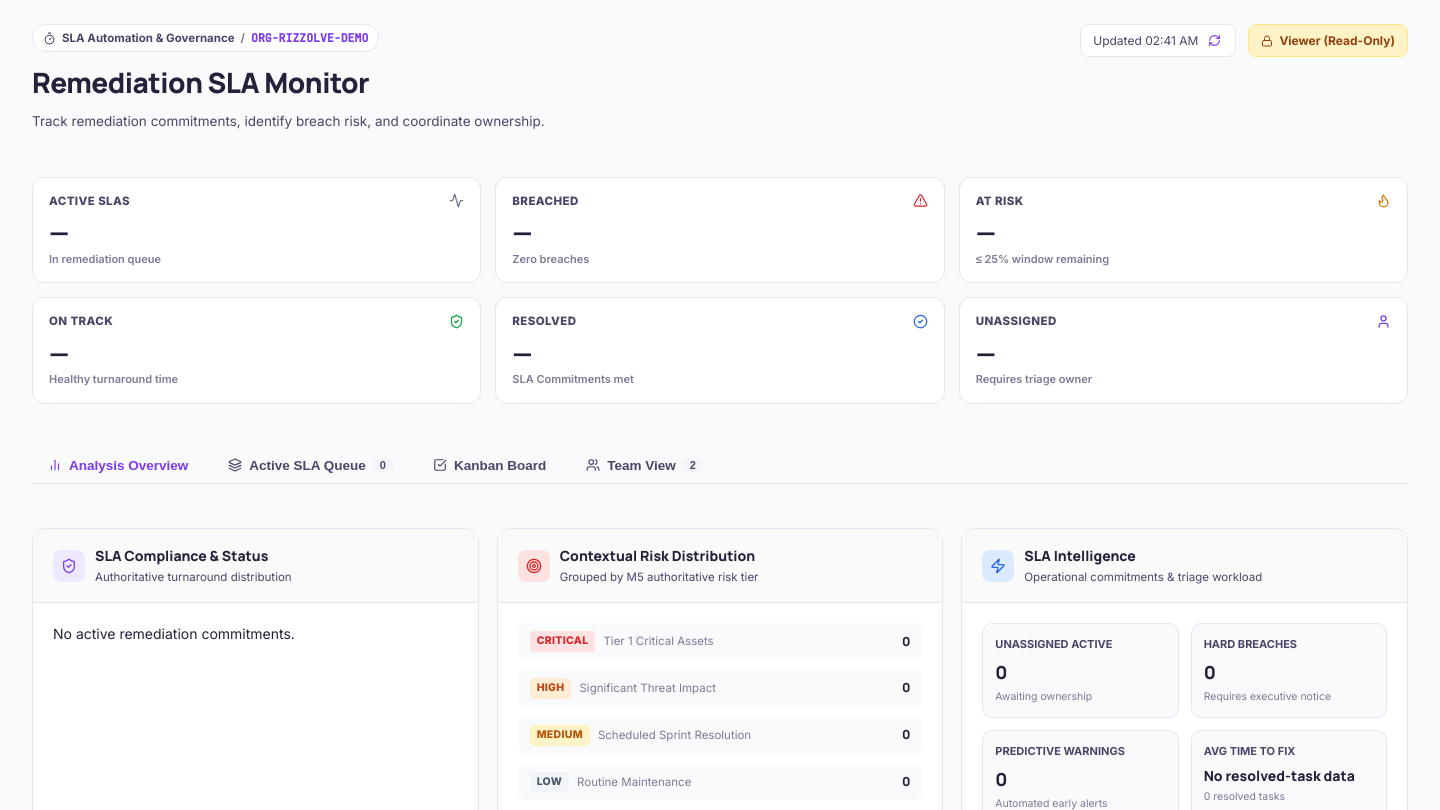
Test: Remediation SLA Monitor Component › 8. switches to Kanban Board and renders 4 workflow columns
expect the text "Kanban Board" is shown: met, box [454, 458, 546, 473]
Click the tab "Kanban Board": (490, 466) [417, 448, 562, 485]
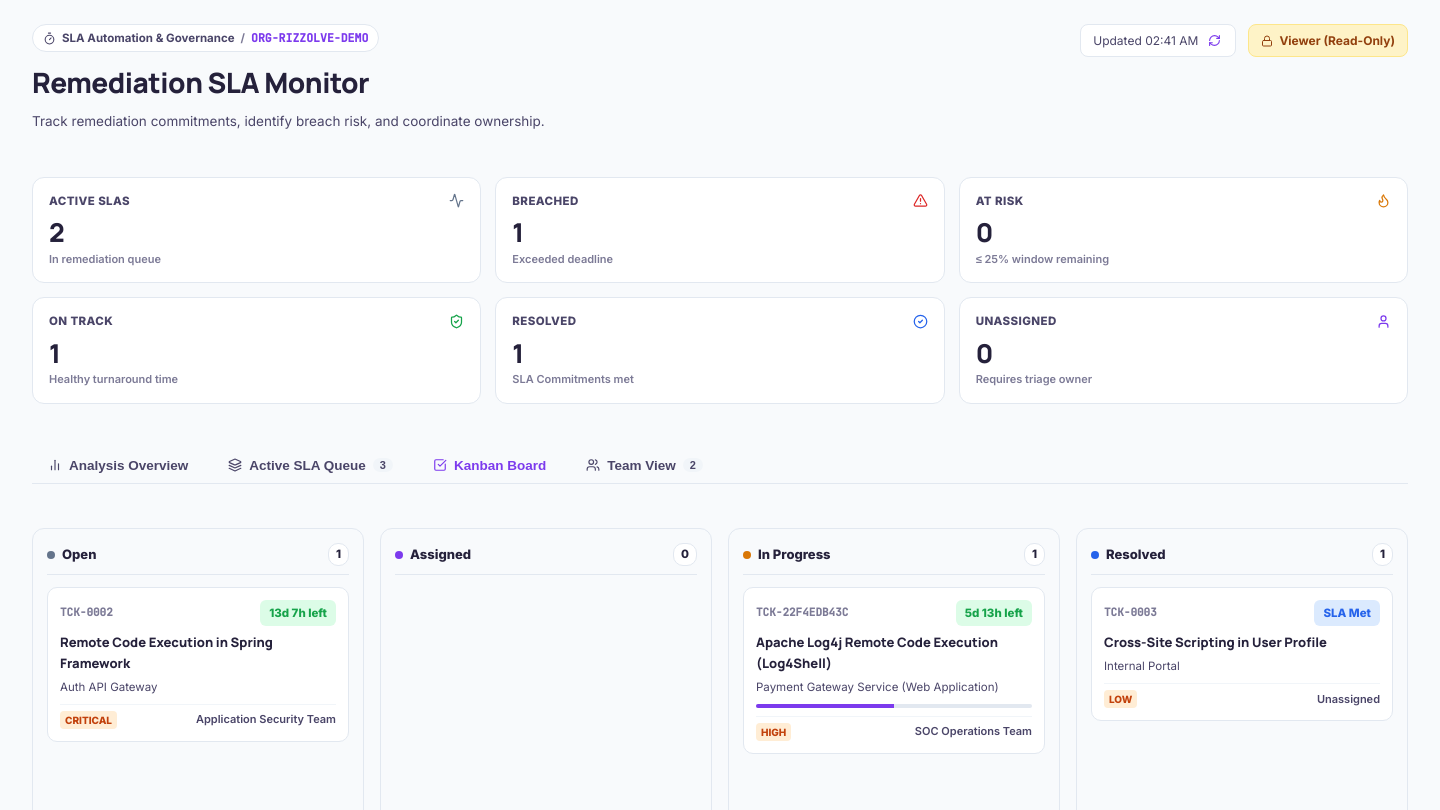
expect the text "Open" is shown: met, box [62, 544, 96, 565]
expect the text "Assigned" is shown: met, box [410, 544, 471, 565]
expect the text "In Progress" is shown: met, box [758, 544, 831, 565]
